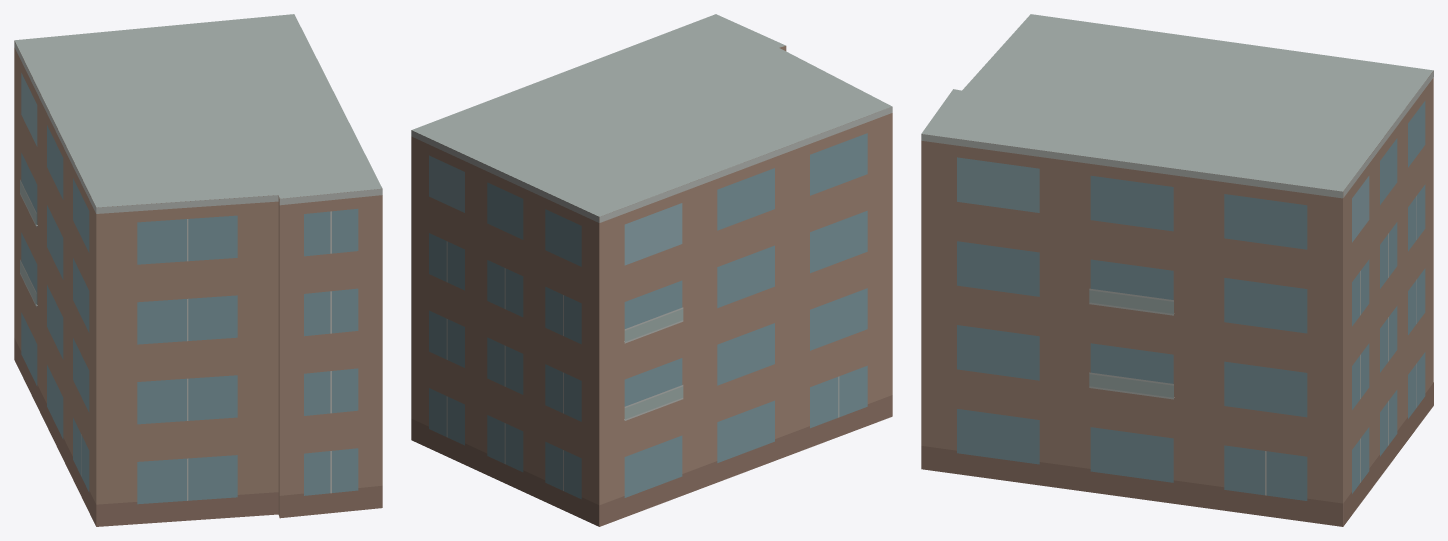
The model's file is survey-upis-32769354.glb.
3 views of the same model, side by side, from view 1: azimuth 30°, elevation 25°; view 2: azimuth 150°, elevation 25°; view 3: azimuth 270°, elevation 25° (orthographic). The views are drawn at different scales.
Visible parts, largest first — view 1: survey-upis-32769354.tmp; view 2: survey-upis-32769354.tmp; view 3: survey-upis-32769354.tmp.
Part boxes in pixels (box(x1,y1,x2,y2)): survey-upis-32769354.tmp: box(14, 14, 382, 526); survey-upis-32769354.tmp: box(411, 14, 892, 526); survey-upis-32769354.tmp: box(921, 14, 1433, 526).
Size of the model in its own units: 13.65 by 12 by 16.64.
